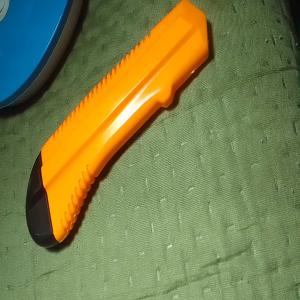estilete: (24, 0, 211, 253)
